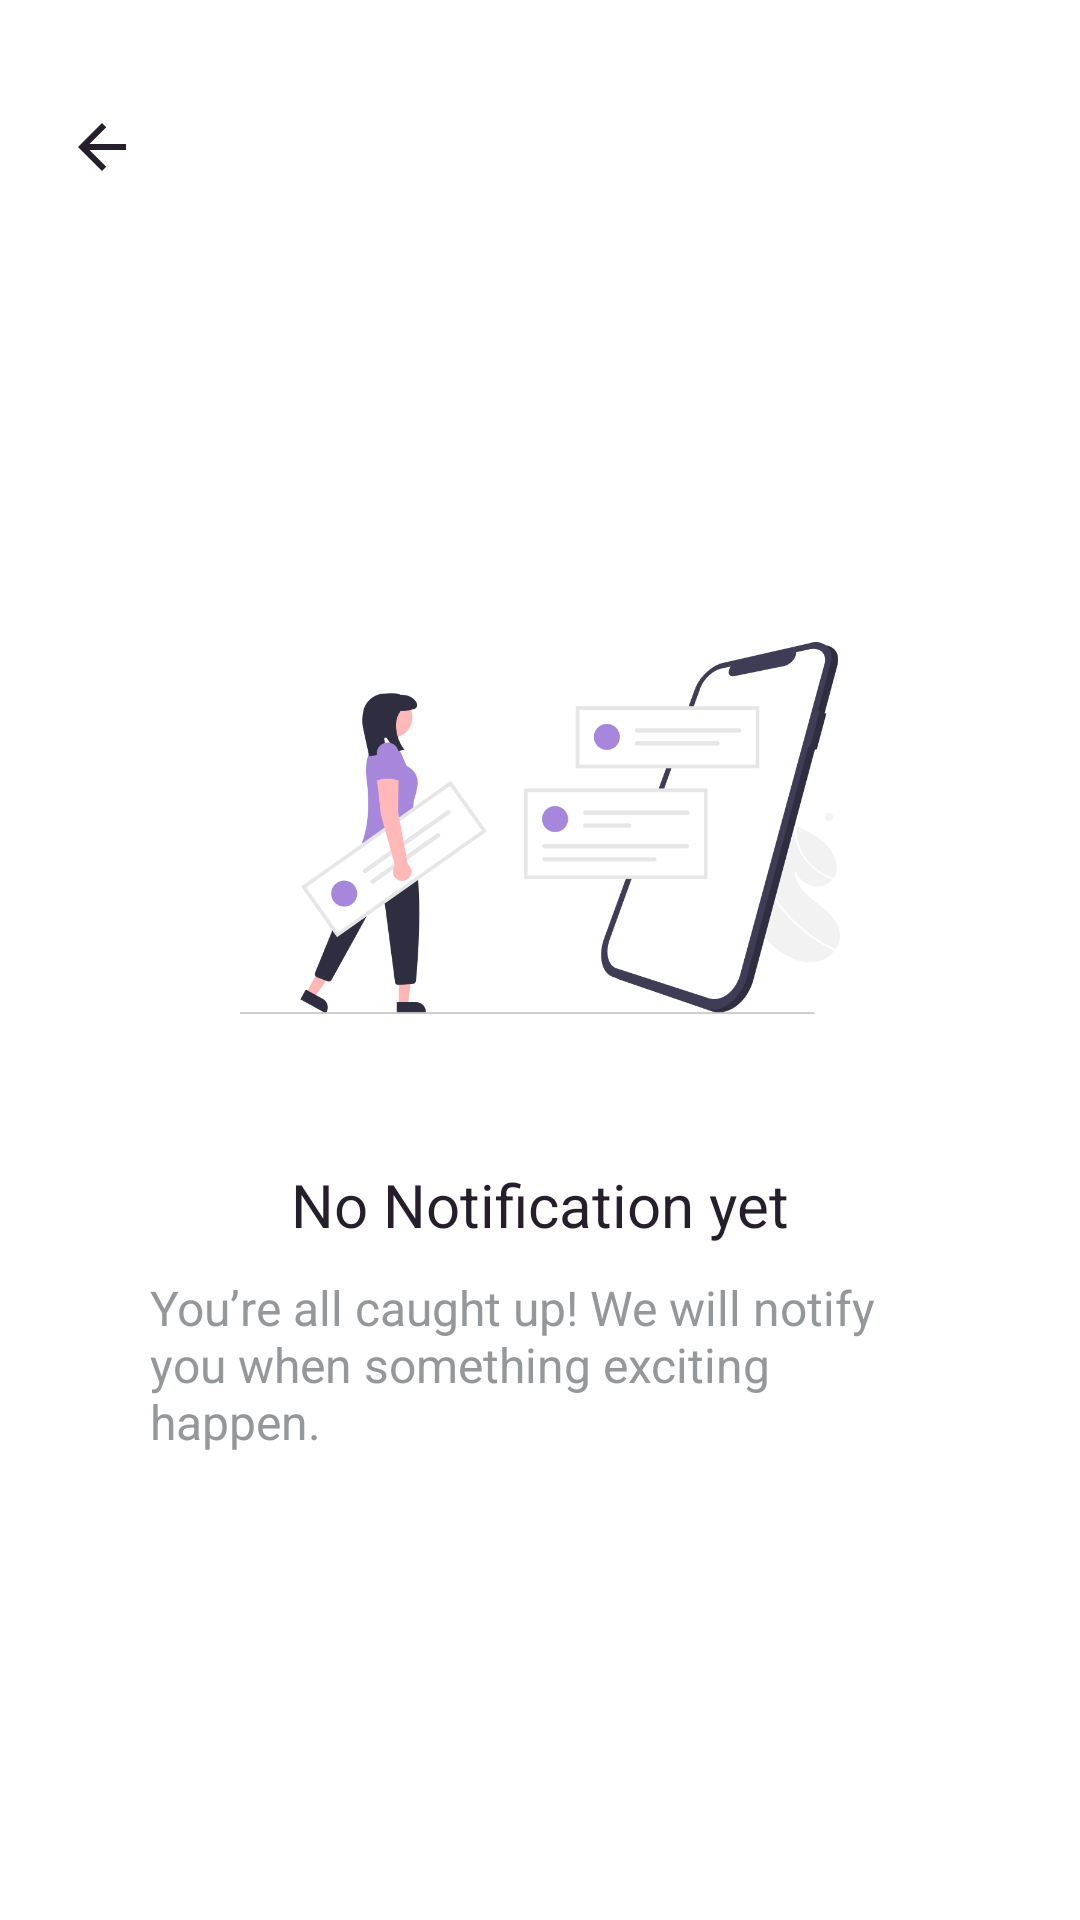

Icons on this 1080x1920 Android screen, each with the point to tap as (x=x, y=y):
arrow back: (x=102, y=147)
